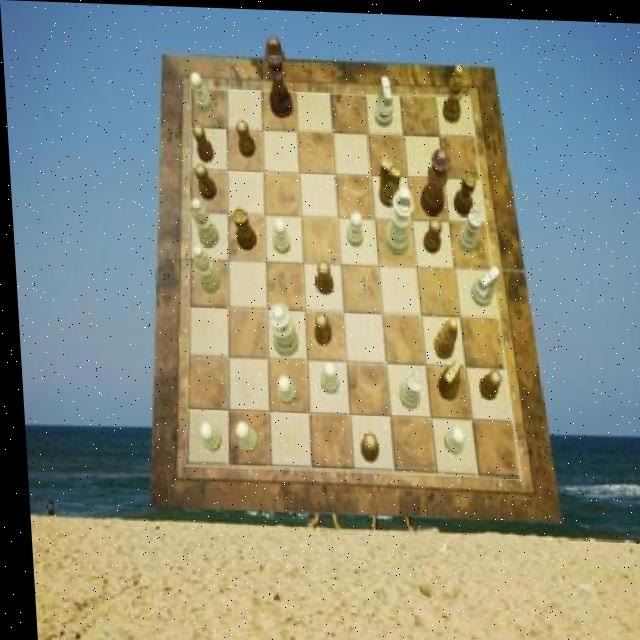bishop: (438, 60, 465, 120), (428, 314, 454, 358)
black-bishop: (263, 35, 291, 118)
black-king: (375, 157, 402, 205), (431, 355, 458, 398)
black-knight: (190, 122, 212, 161), (474, 366, 499, 399), (193, 162, 215, 199), (418, 215, 440, 251), (234, 117, 253, 156), (309, 310, 328, 345), (312, 258, 331, 293), (354, 430, 373, 461)
black-pawn: (415, 144, 451, 214)
black-queen: (449, 165, 476, 213), (229, 205, 254, 250)
black-rook: (187, 196, 216, 246), (190, 244, 217, 292)
white-bishop: (379, 185, 414, 253)
white-king: (466, 262, 498, 305), (370, 72, 393, 124)
white-knight: (189, 71, 211, 112), (229, 420, 253, 453), (192, 421, 216, 450), (268, 216, 287, 252), (316, 358, 335, 392), (342, 208, 360, 243), (438, 423, 460, 451), (272, 374, 291, 403)
white-pawn: (263, 300, 295, 355)
white-queen: (452, 204, 480, 250), (393, 368, 418, 407)
